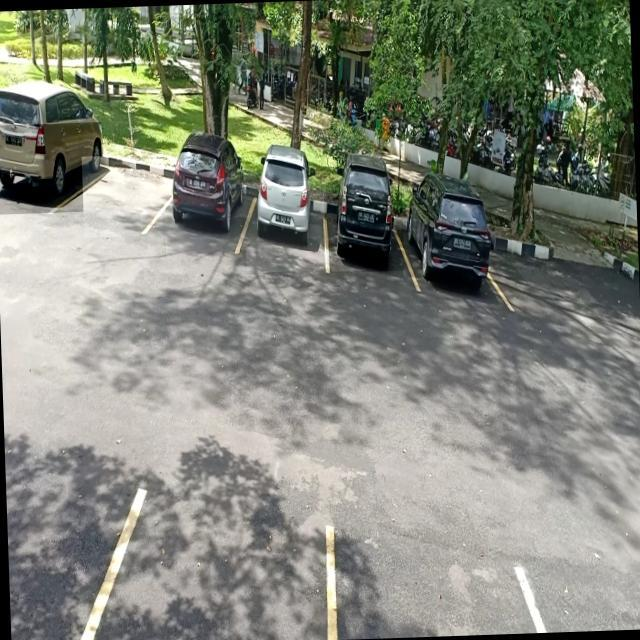empty: (81, 154, 165, 238)
occupied: (0, 121, 103, 214), (403, 196, 496, 297), (162, 160, 248, 252), (243, 180, 328, 273), (324, 192, 404, 272)
